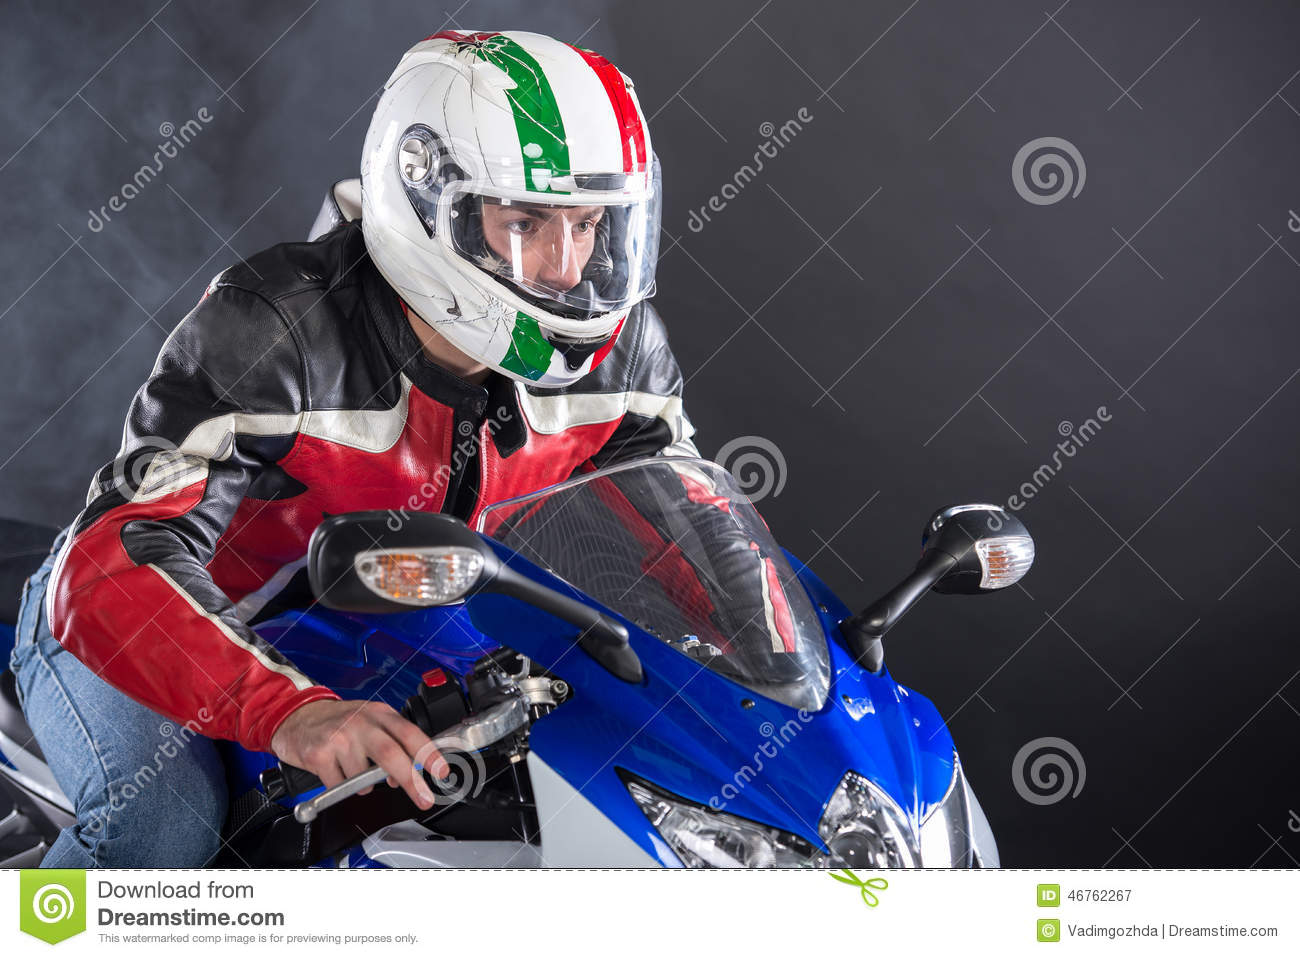helmet: (376, 10, 667, 394)
